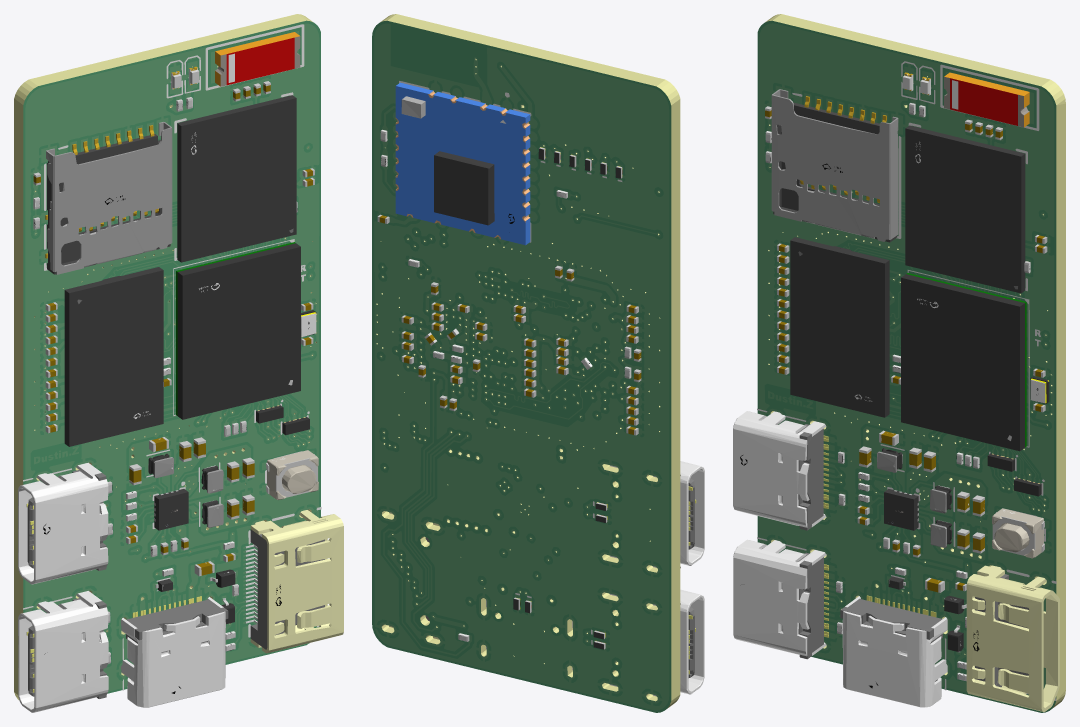
File: auracore-lite.glb
3 renders of one model, left to right at view 1: azimuth 30°, elevation 25°; view 2: azimuth 150°, elevation 25°; view 3: azimuth 330°, elevation 25°, orthographic.
Visible parts, largest first — view 1: =>[0:1:1:2]; view 2: =>[0:1:1:2]; view 3: =>[0:1:1:2].
Part boxes in pixels (x1,y1,x2,y2): =>[0:1:1:2]: [14, 14, 343, 712]; =>[0:1:1:2]: [372, 14, 704, 712]; =>[0:1:1:2]: [733, 14, 1065, 712].
Bounding box in the file's own units: 0.0309 × 0.0605 × 0.00666.
Materials: 1 (1 with a texture image).
